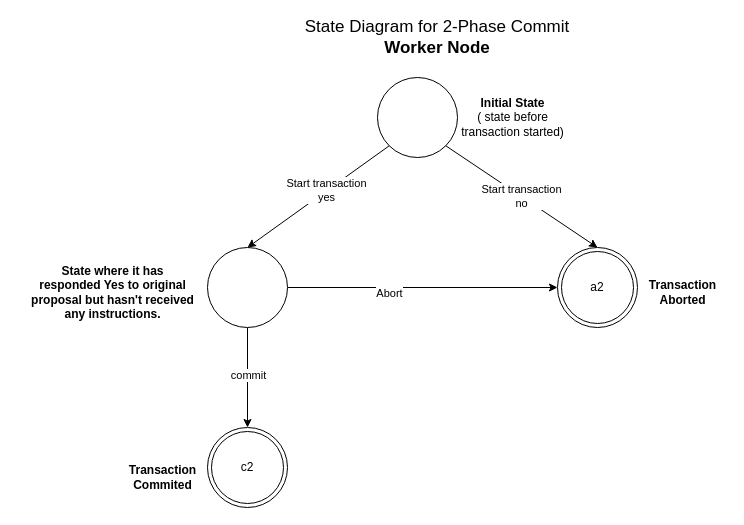
Some shapes in this 744 by 525 pixel diagram are drawn without their labels. The box of each missing label's shape, as (x1, y1, x2, y2) in pixels:
p2: (206, 246, 288, 328)
q2: (376, 76, 458, 158)
